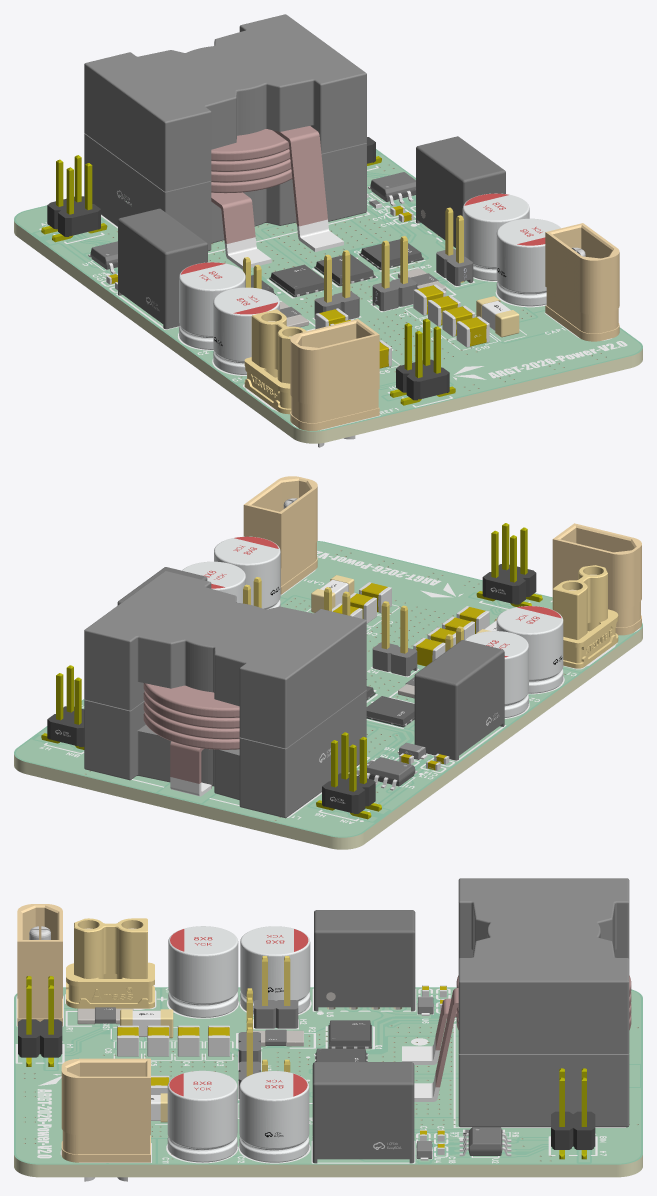
File: Power_PCB_2026-05-02.glb
3 views of the same model, one above another, from view 1: azimuth 30°, elevation 25°; view 2: azimuth 150°, elevation 25°; view 3: azimuth 270°, elevation 25° (orthographic). The views are drawn at different scales.
Visible parts, largest first — view 1: Node6, Node3, Node15, Node27, Node29, Node7, Node4, Node1, Node17, Node9, Node34, Node33 (+7 smaller); view 2: Node6, Node3, Node15, Node27, Node29, Node4, Node7, Node9, Node34, Node33, Node1, Node17 (+7 smaller); view 3: Node6, Node3, Node29, Node27, Node15, Node4, Node1, Node9, Node17, Node33, Node25, Node13 (+9 smaller).
Boxes of the visible parts, <box> form: Node6: <box>84,14,366,251</box>; Node3: <box>16,153,640,430</box>; Node15: <box>290,223,619,430</box>; Node27: <box>90,136,505,329</box>; Node29: <box>179,193,560,374</box>; Node7: <box>211,126,327,243</box>; Node4: <box>14,164,642,443</box>; Node1: <box>39,165,627,430</box>; Node17: <box>14,149,642,431</box>; Node9: <box>244,309,306,414</box>; Node34: <box>41,155,455,405</box>; Node33: <box>47,137,449,400</box>; Node6: <box>84,571,425,818</box>; Node3: <box>16,541,634,836</box>; Node15: <box>243,476,641,635</box>; Node27: <box>117,567,504,786</box>; Node29: <box>182,536,563,717</box>; Node4: <box>14,550,642,849</box>; Node7: <box>143,683,239,788</box>; Node9: <box>552,565,618,668</box>; Node34: <box>41,523,542,819</box>; Node33: <box>47,564,536,813</box>; Node1: <box>39,551,640,823</box>; Node17: <box>14,541,642,837</box>; Node6: <box>416,878,629,1158</box>; Node3: <box>16,988,640,1163</box>; Node29: <box>167,926,310,1162</box>; Node27: <box>94,910,502,1163</box>; Node15: <box>17,904,150,1162</box>; Node4: <box>14,1007,642,1177</box>; Node1: <box>15,988,625,1163</box>; Node9: <box>66,918,154,1008</box>; Node17: <box>14,987,642,1164</box>; Node33: <box>18,1019,595,1149</box>; Node25: <box>117,985,446,1154</box>; Node13: <box>238,1000,502,1132</box>.
Bounding box in the file's own units: 47.97 × 22.2 × 71.97.
